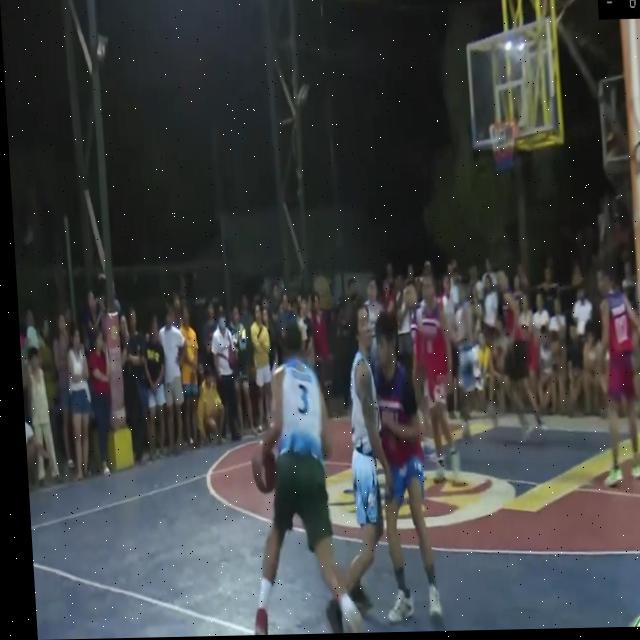basketball: (250, 433, 279, 501)
hoop: (486, 111, 521, 179)
